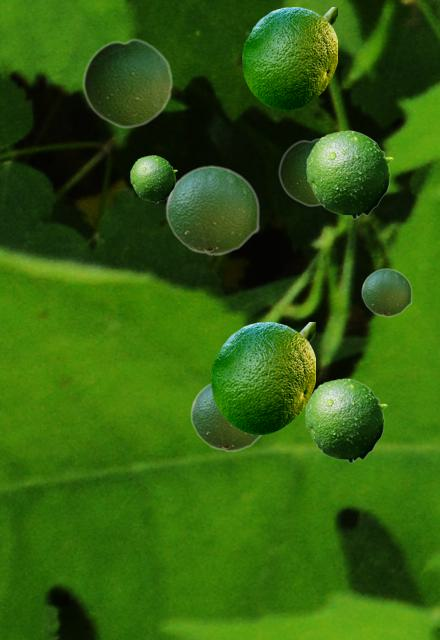dalandan: (211, 322, 314, 433), (242, 7, 336, 109), (165, 165, 259, 255), (82, 38, 172, 128), (306, 130, 392, 218), (305, 378, 386, 462), (190, 382, 265, 451), (278, 137, 320, 206), (361, 268, 411, 316), (130, 155, 176, 202)
